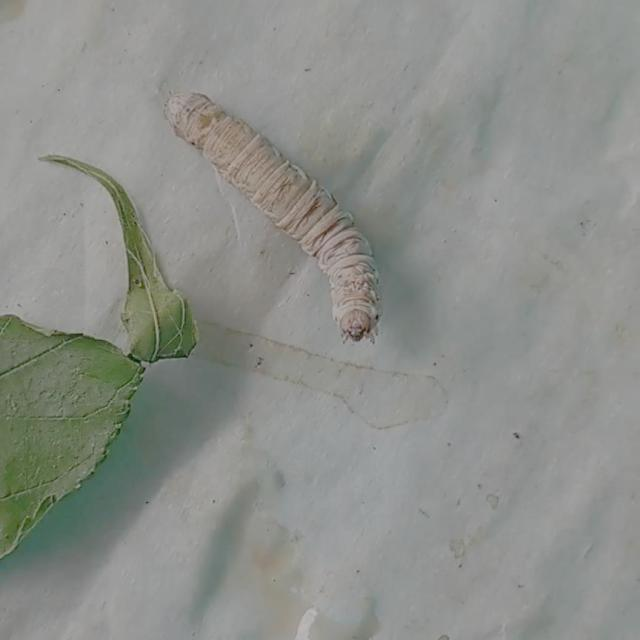Grasserie: (138, 57, 407, 361)
